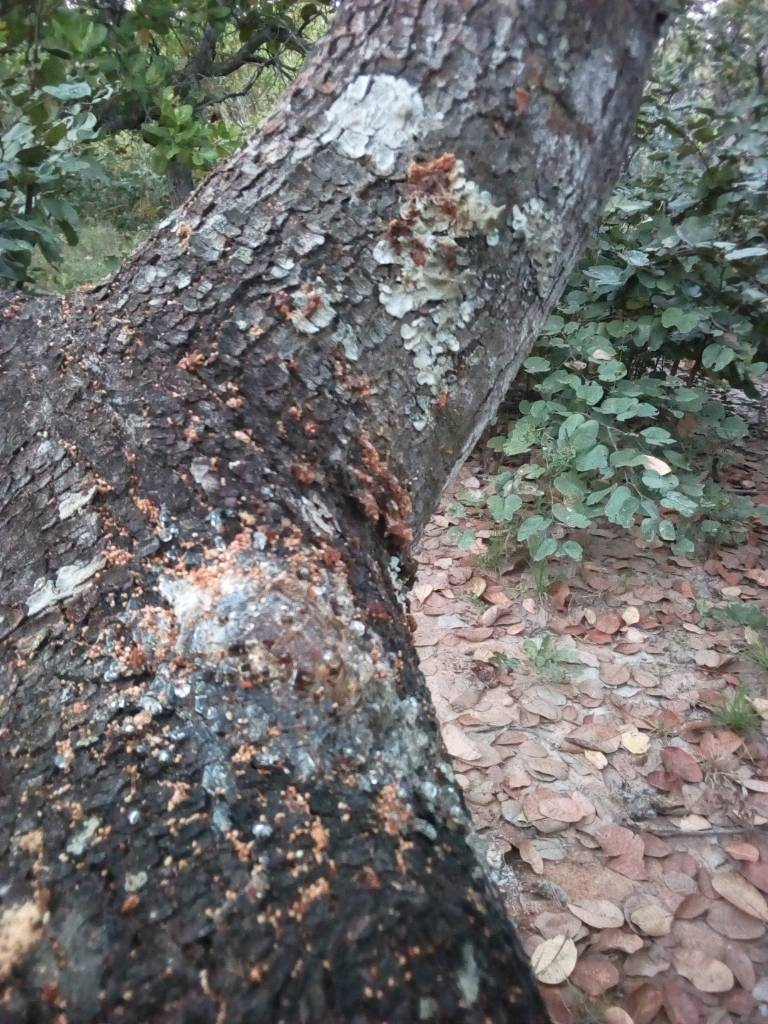Apate terebrans: (29, 124, 580, 897)
